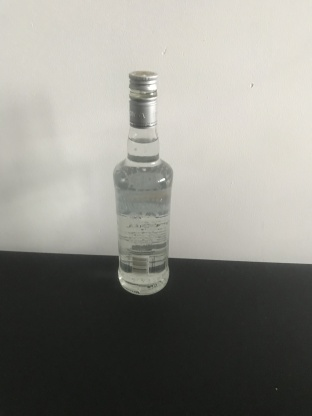nakretka: (127, 68, 159, 129)
